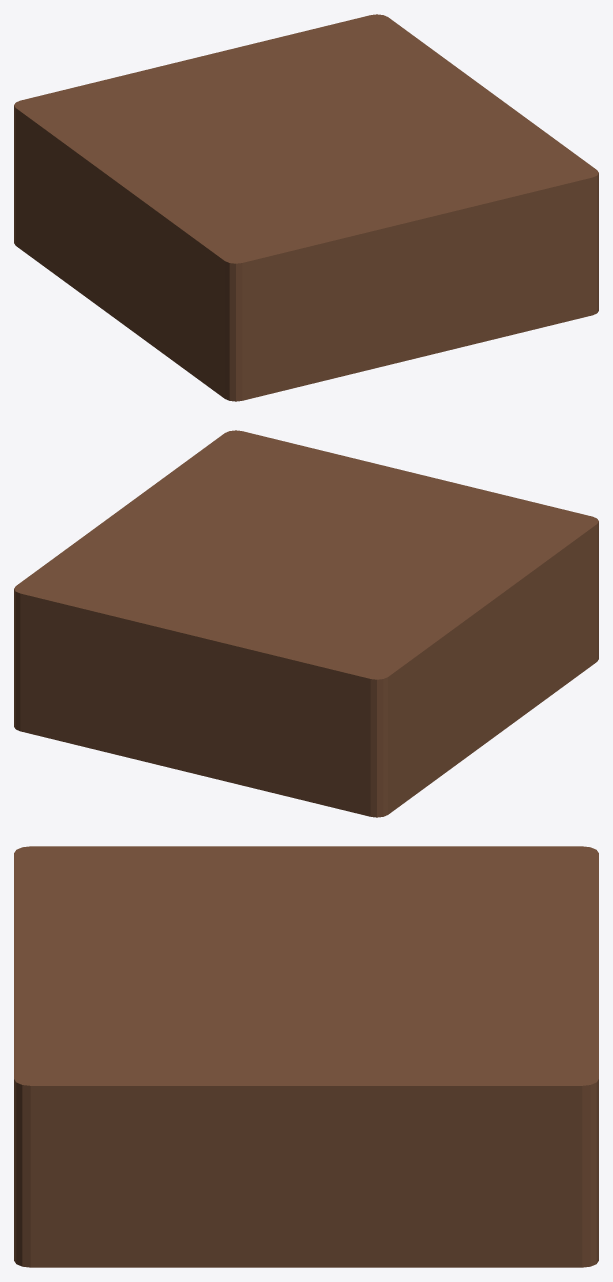
File: cm_cap7.glb
3 views of the same model, one above another, from view 1: azimuth 30°, elevation 25°; view 2: azimuth 150°, elevation 25°; view 3: azimuth 270°, elevation 25° (orthographic). The views are drawn at different scales.
Parts seen in each view (by area): view 1: Cube.079; view 2: Cube.079; view 3: Cube.079.
Part boxes in pixels (box(x1,y1,x2,y2)): Cube.079: box(14, 14, 598, 401); Cube.079: box(14, 430, 598, 817); Cube.079: box(14, 846, 598, 1267).
Bounding box in the file's own units: 16.96 × 6 × 17.5.
